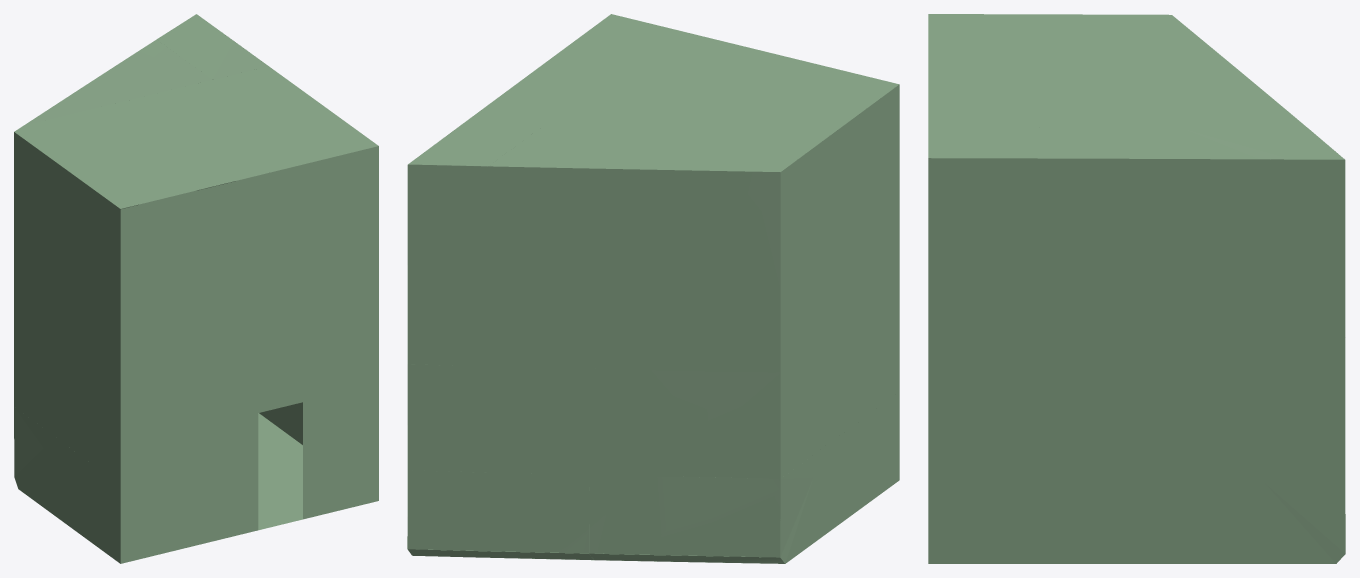
The model's file is ROPE_STORE_PS.glb.
3 views of the same model, side by side, from view 1: azimuth 30°, elevation 25°; view 2: azimuth 150°, elevation 25°; view 3: azimuth 270°, elevation 25° (orthographic). The views are drawn at different scales.
Parts seen in each view (by area): view 1: PL_OuterShellxAPTP_001001-18.5_NVA_1993, PL_No8LBHDxAPTP_012001-10_NVA_1993, PL_UDxAPTP_002001-12_NVA_1993, PL_No8LBHDxAPTP_009001-10_NVA_1993, PL_No8LBHDxAPTP_009003-10_NVA_1993, PL_No8LBHDxAPTP_011001-12.5_NVA_1993, PL_No8LBHDxAPTP_011002-12.5_NVA_1993, PL_OuterShellxAPTP_001002-18.5_NVA_1993, PL_UDxAPTP_002003-12_NVA_1993, PL_No8LBHDxAPTP_013001-10_NVA_1993, PL_UDxAPTP_003001-12_NVA_1993, PL_No8LBHDxAPTP_013008-10_NVA_1993 (+8 smaller); view 2: PL_OuterShellxAPTP_014001-18.5_NVA_1993, PL_OuterShellxAPTP_001001-18.5_NVA_1993, PL_OuterShellxAPTP_013001-18.5_NVA_1993, PL_UDxAPTP_002001-12_NVA_1993, PL_OuterShellxAPTP_013002-18.5_NVA_1993, PL_OuterShellxAPTP_014003-18.5_NVA_1993, PL_OuterShellxAPTP_001002-18.5_NVA_1993, PL_OuterShellxAPTP_013005-18.5_NVA_1993, PL_UDxAPTP_002003-12_NVA_1993, PL_UDxAPTP_003001-12_NVA_1993, PL_OuterShellxAPTP_013006-18.5_NVA_1993, PL_UDxAPTP_003003-12_NVA_1993 (+1 smaller); view 3: PL_SideTransxFRBP_001001-11_NVA36_2014, PL_SideTransxFRBP_001002-11_NVA36_2014, PL_UDxAPTP_002001-12_NVA_1993, PL_UDxAPTP_002003-12_NVA_1993, PL_UDxAPTP_003001-12_NVA_1993, PL_UDxAPTP_003003-12_NVA_1993, PL_SideTransxFRBP_002001-25_NVA36_2014.
Boxes of the visible parts, bbox=[...] form: PL_OuterShellxAPTP_001001-18.5_NVA_1993: bbox=[14, 132, 120, 484]; PL_No8LBHDxAPTP_012001-10_NVA_1993: bbox=[120, 181, 235, 404]; PL_UDxAPTP_002001-12_NVA_1993: bbox=[14, 80, 322, 208]; PL_No8LBHDxAPTP_009001-10_NVA_1993: bbox=[235, 160, 322, 376]; PL_No8LBHDxAPTP_009003-10_NVA_1993: bbox=[322, 146, 378, 355]; PL_No8LBHDxAPTP_011001-12.5_NVA_1993: bbox=[120, 377, 235, 484]; PL_No8LBHDxAPTP_011002-12.5_NVA_1993: bbox=[120, 456, 235, 563]; PL_OuterShellxAPTP_001002-18.5_NVA_1993: bbox=[14, 407, 120, 563]; PL_UDxAPTP_002003-12_NVA_1993: bbox=[213, 66, 378, 159]; PL_No8LBHDxAPTP_013001-10_NVA_1993: bbox=[235, 356, 322, 456]; PL_UDxAPTP_003001-12_NVA_1993: bbox=[23, 39, 211, 125]; PL_No8LBHDxAPTP_013008-10_NVA_1993: bbox=[322, 342, 378, 434]; PL_OuterShellxAPTP_014001-18.5_NVA_1993: bbox=[488, 166, 780, 372]; PL_OuterShellxAPTP_001001-18.5_NVA_1993: bbox=[780, 84, 899, 478]; PL_OuterShellxAPTP_013001-18.5_NVA_1993: bbox=[488, 366, 780, 478]; PL_UDxAPTP_002001-12_NVA_1993: bbox=[551, 29, 898, 171]; PL_OuterShellxAPTP_013002-18.5_NVA_1993: bbox=[488, 472, 780, 557]; PL_OuterShellxAPTP_014003-18.5_NVA_1993: bbox=[407, 164, 488, 366]; PL_OuterShellxAPTP_001002-18.5_NVA_1993: bbox=[780, 392, 899, 563]; PL_OuterShellxAPTP_013005-18.5_NVA_1993: bbox=[407, 364, 488, 472]; PL_UDxAPTP_002003-12_NVA_1993: bbox=[488, 14, 673, 119]; PL_UDxAPTP_003001-12_NVA_1993: bbox=[489, 120, 760, 171]; PL_OuterShellxAPTP_013006-18.5_NVA_1993: bbox=[407, 470, 488, 551]; PL_UDxAPTP_003003-12_NVA_1993: bbox=[408, 105, 550, 166]; PL_SideTransxFRBP_001001-11_NVA36_2014: bbox=[928, 158, 1345, 473]; PL_SideTransxFRBP_001002-11_NVA36_2014: bbox=[928, 473, 1345, 563]; PL_UDxAPTP_002001-12_NVA_1993: bbox=[928, 14, 1180, 127]; PL_UDxAPTP_002003-12_NVA_1993: bbox=[928, 126, 1180, 158]; PL_UDxAPTP_003001-12_NVA_1993: bbox=[1180, 22, 1307, 128]; PL_UDxAPTP_003003-12_NVA_1993: bbox=[1180, 127, 1344, 159]; PL_SideTransxFRBP_002001-25_NVA36_2014: bbox=[1195, 159, 1261, 186].
Bounding box in the file's own units: 4.6 × 6.04 × 5.63.
